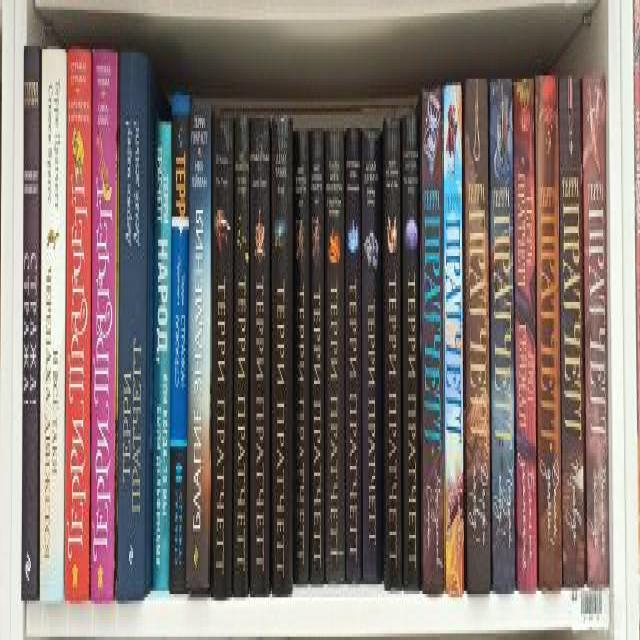book: (118, 50, 146, 599), (64, 50, 91, 598), (40, 50, 66, 604), (91, 52, 117, 601), (535, 76, 562, 591), (582, 77, 609, 586), (559, 79, 585, 587), (466, 79, 491, 593), (490, 80, 515, 591), (514, 79, 538, 592), (186, 105, 211, 588), (422, 89, 444, 594), (271, 117, 293, 597), (21, 47, 40, 599), (444, 86, 464, 596), (212, 109, 232, 600), (250, 116, 270, 594), (324, 129, 344, 584), (362, 129, 382, 581), (171, 94, 189, 593), (152, 123, 171, 590), (403, 109, 421, 591), (384, 119, 402, 592), (233, 114, 249, 596), (346, 130, 362, 581), (293, 129, 308, 584), (310, 129, 324, 585)
